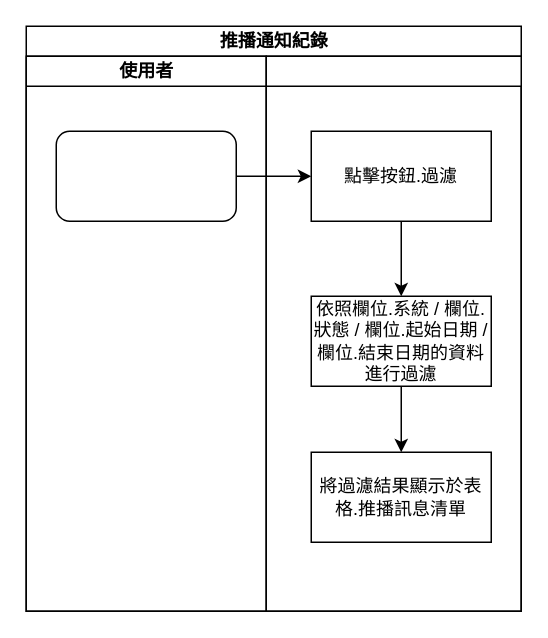
This 548x638 diagram has some shape labels left out. The box of each missing label's shape, as (x1, y1, x2, y2) in pixels:
進入表單.個人資料的頁簽.推播通知紀錄: (55, 130, 236, 221)
頁簽.推播通知紀錄: (265, 55, 521, 611)
